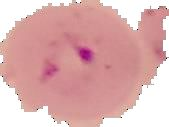parasitized: (32, 26, 110, 98)
